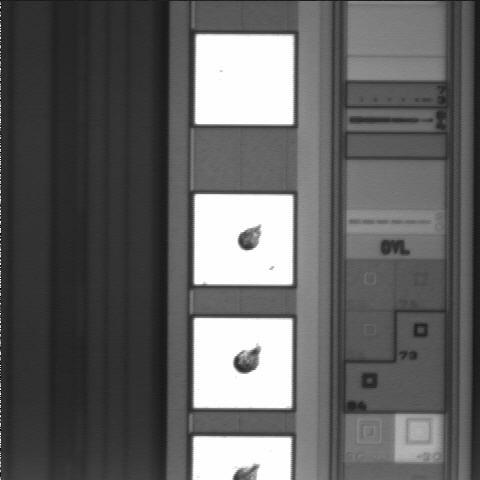pad: (194, 194, 293, 285), (195, 34, 294, 124), (194, 318, 292, 408)
